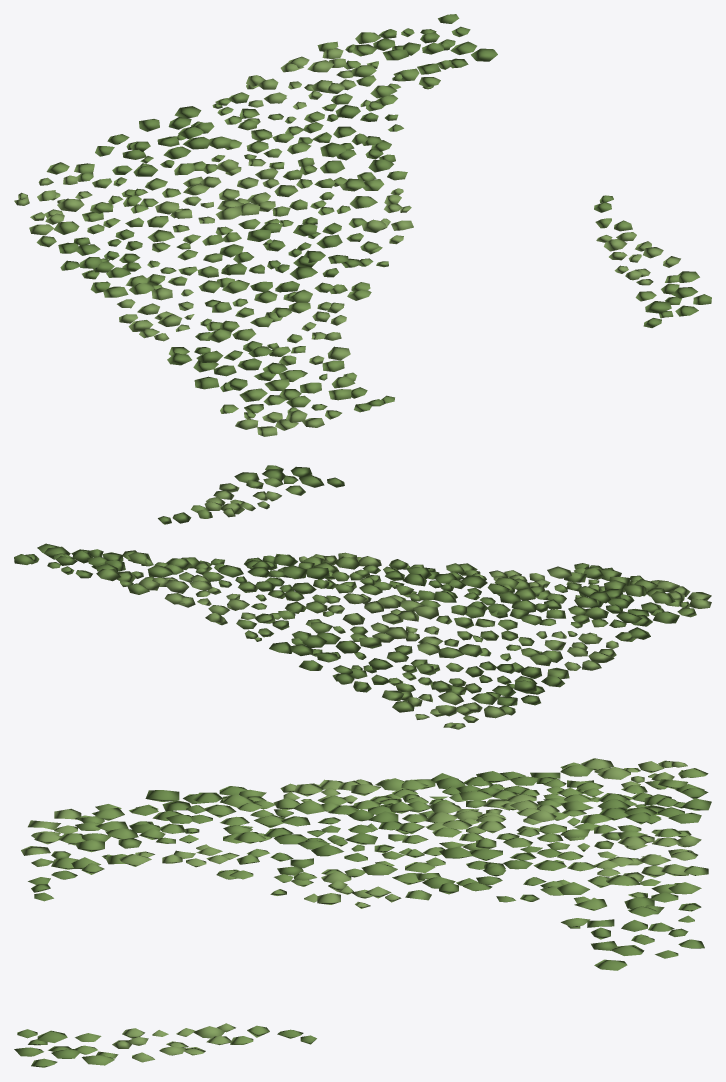
File: canopy-1-1-4.glb
The picture shows the model from 3 angles, top to bottom: view 1: azimuth 30°, elevation 25°; view 2: azimuth 150°, elevation 25°; view 3: azimuth 270°, elevation 25°; orthographic projection. The views are drawn at different scales.
Size of the model in its own units: 518 by 135 by 518.
Materials: 1 (1 with a texture image).
